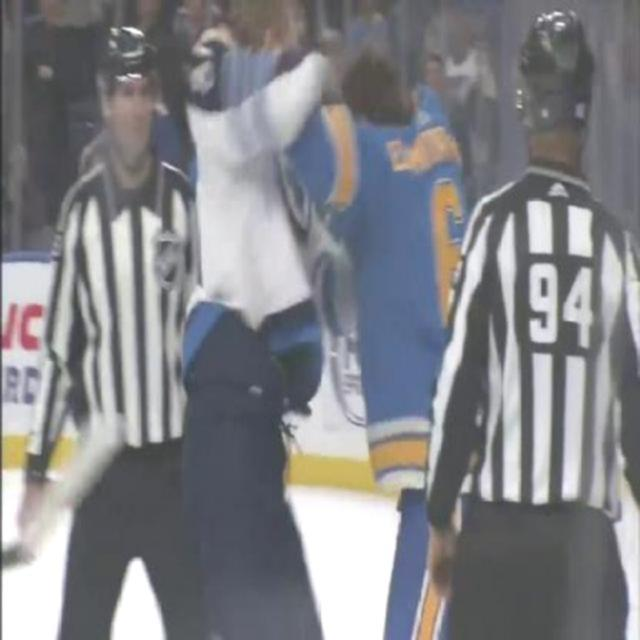fight: (183, 0, 478, 638)
